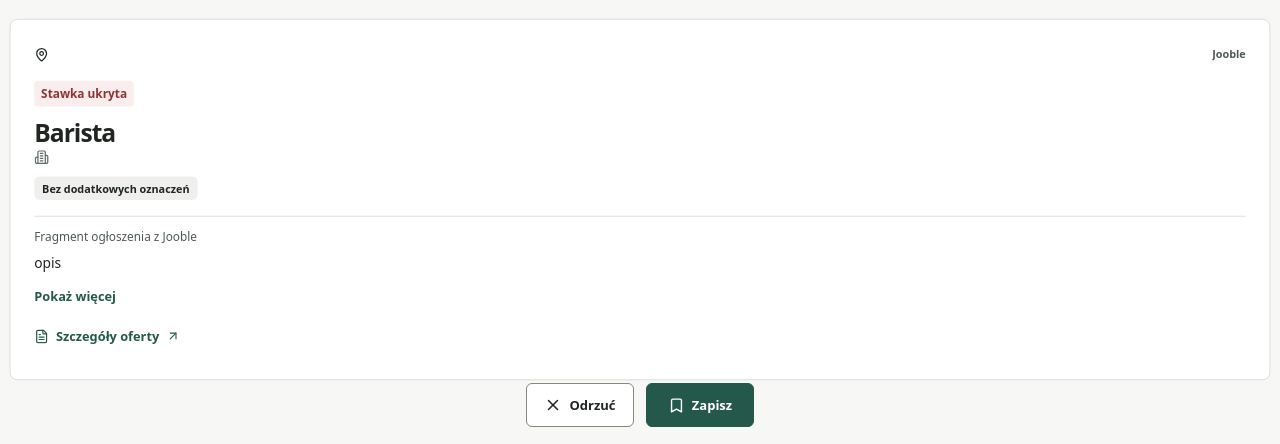
Test: swipe card transitions › marks the beginning of an excerpt from  Jooble  before and after expanding
expect the text with class "job-description-source-note" reads "Fragment ogłoszenia z Jooble": met, box [34, 229, 197, 246]
Click the button with class "job-description-toggle" at (75, 297), box [34, 277, 116, 316]
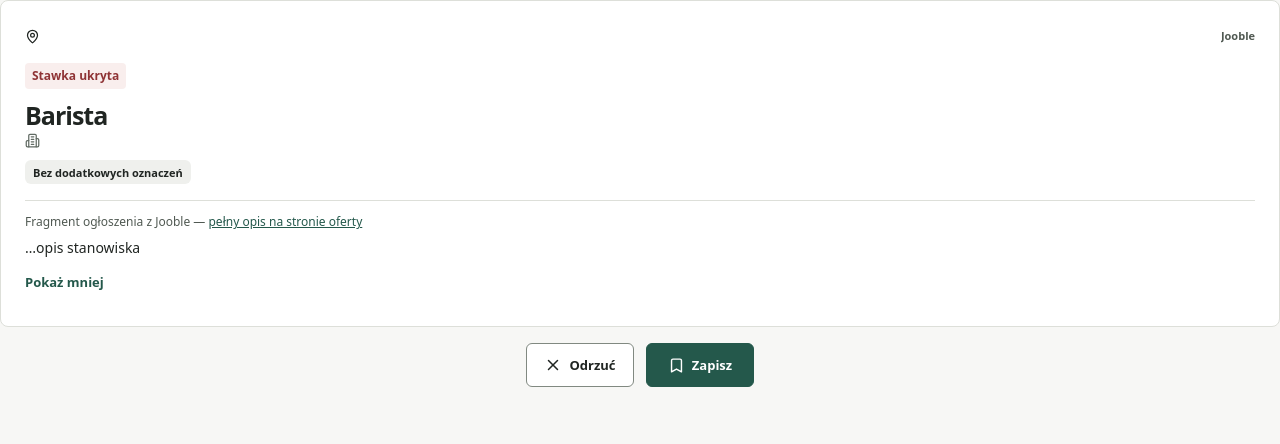
expect the number of elements with class "job-description-source-note" is 1: met, box [25, 213, 362, 230]
expect the text "…opis stanowiska" is shown: met, box [25, 238, 140, 257]
